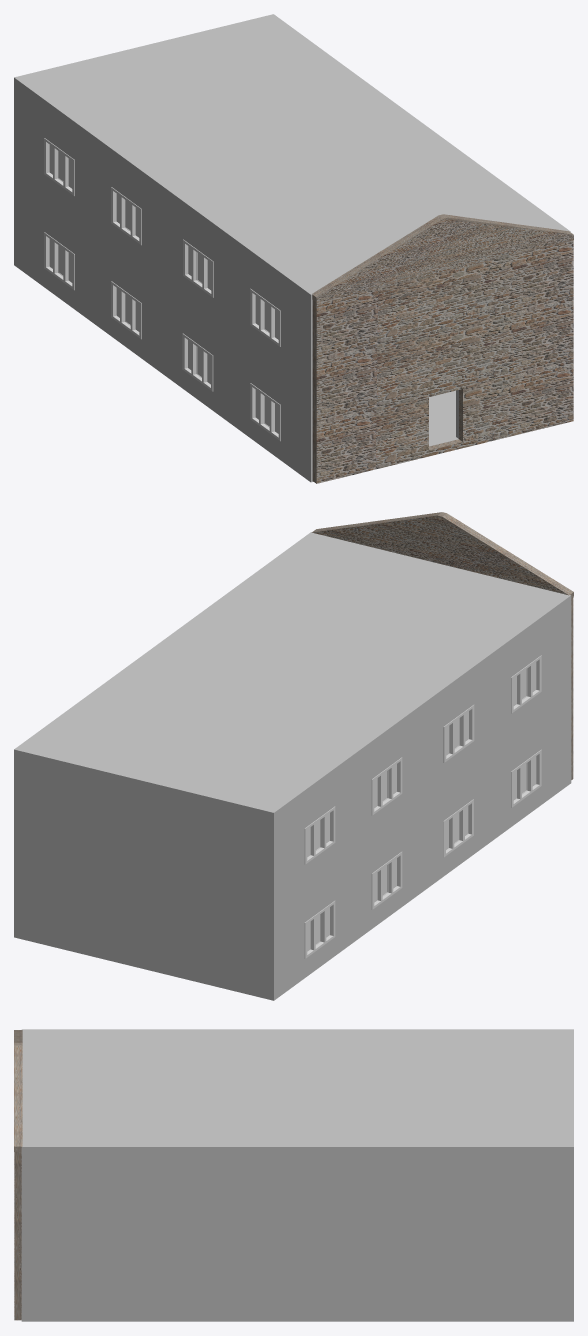
Rendered from House.fbx.
3 views of the same model, one above another, from view 1: azimuth 30°, elevation 25°; view 2: azimuth 150°, elevation 25°; view 3: azimuth 270°, elevation 25° (orthographic). The views are drawn at different scales.
Visible parts, largest first — view 1: primerPis-nou, FaçanaEntrada.001, plantaBaixa-nova, Finestra.002, Finestra.007, Finestra.001, Finestra.005, Finestra.006, Finestra, Finestra.003, Finestra.004; view 2: primerPis-nou, plantaBaixa-nova, FaçanaEntrada.001, Finestra.004, Finestra.005, Finestra, Finestra.001, Finestra.006, Finestra.007, Finestra.002, Finestra.003; view 3: primerPis-nou, plantaBaixa-nova, FaçanaEntrada.001.
Boxes of the visible parts, x1,y1,x2,y2 form: primerPis-nou: (14, 14, 570, 388); FaçanaEntrada.001: (312, 214, 573, 483); plantaBaixa-nova: (14, 171, 458, 482); Finestra.002: (182, 333, 213, 391); Finestra.007: (250, 288, 280, 346); Finestra.001: (111, 281, 141, 339); Finestra.005: (111, 187, 141, 245); Finestra.006: (183, 239, 213, 297); Finestra: (44, 232, 74, 290); Finestra.003: (250, 383, 280, 441); Finestra.004: (44, 138, 74, 195); primerPis-nou: (14, 532, 571, 906); plantaBaixa-nova: (14, 689, 571, 1000); FaçanaEntrada.001: (312, 512, 573, 779); Finestra.004: (304, 806, 335, 864); Finestra.005: (371, 757, 402, 815); Finestra: (304, 901, 335, 958); Finestra.001: (371, 852, 402, 909); Finestra.006: (443, 705, 474, 762); Finestra.007: (511, 655, 541, 713); Finestra.002: (443, 799, 473, 857); Finestra.003: (511, 749, 541, 807); primerPis-nou: (21, 1029, 573, 1234); plantaBaixa-nova: (21, 1234, 573, 1321); FaçanaEntrada.001: (14, 1030, 22, 1320).
Size of the model in its own units: 1533 by 1353 by 3072.
